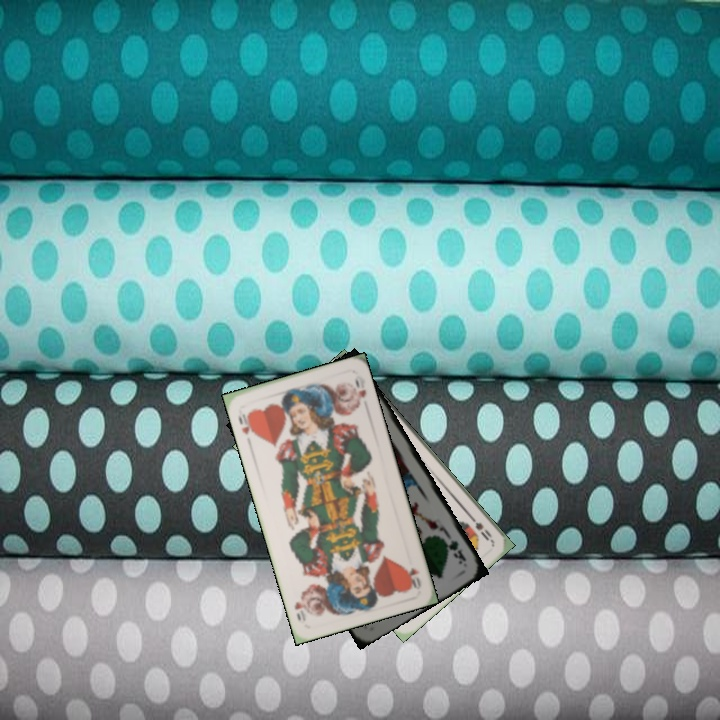GK: (439, 533, 469, 567)
HO: (234, 409, 258, 438), (405, 564, 424, 592)
SO: (464, 510, 495, 544)
